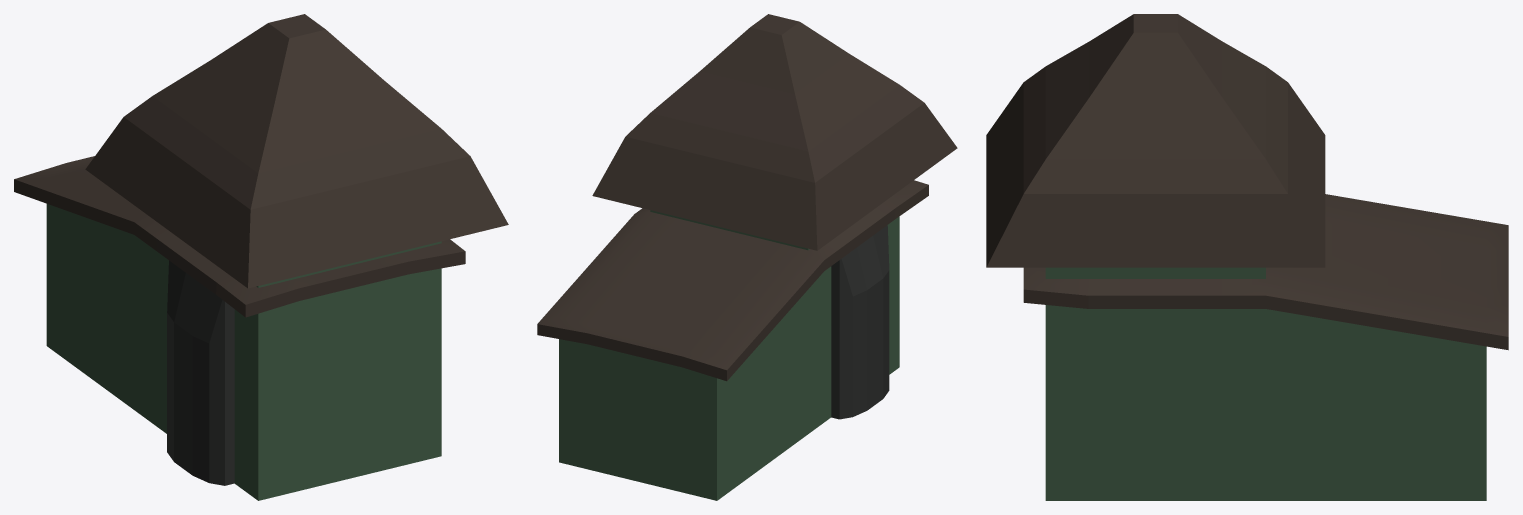
File: SM_TallDoubleHouse.fbx
3 views of the same model, side by side, from view 1: azimuth 30°, elevation 25°; view 2: azimuth 150°, elevation 25°; view 3: azimuth 270°, elevation 25° (orthographic). The views are drawn at different scales.
Visible parts, largest first — view 1: pCube1; view 2: pCube1; view 3: pCube1.
Part boxes in pixels (<box>): pCube1: <box>14,14,508,500</box>; pCube1: <box>537,14,957,500</box>; pCube1: <box>986,14,1508,500</box>.
Size of the model in its own units: 0.0142 by 0.0237 by 0.0216.
